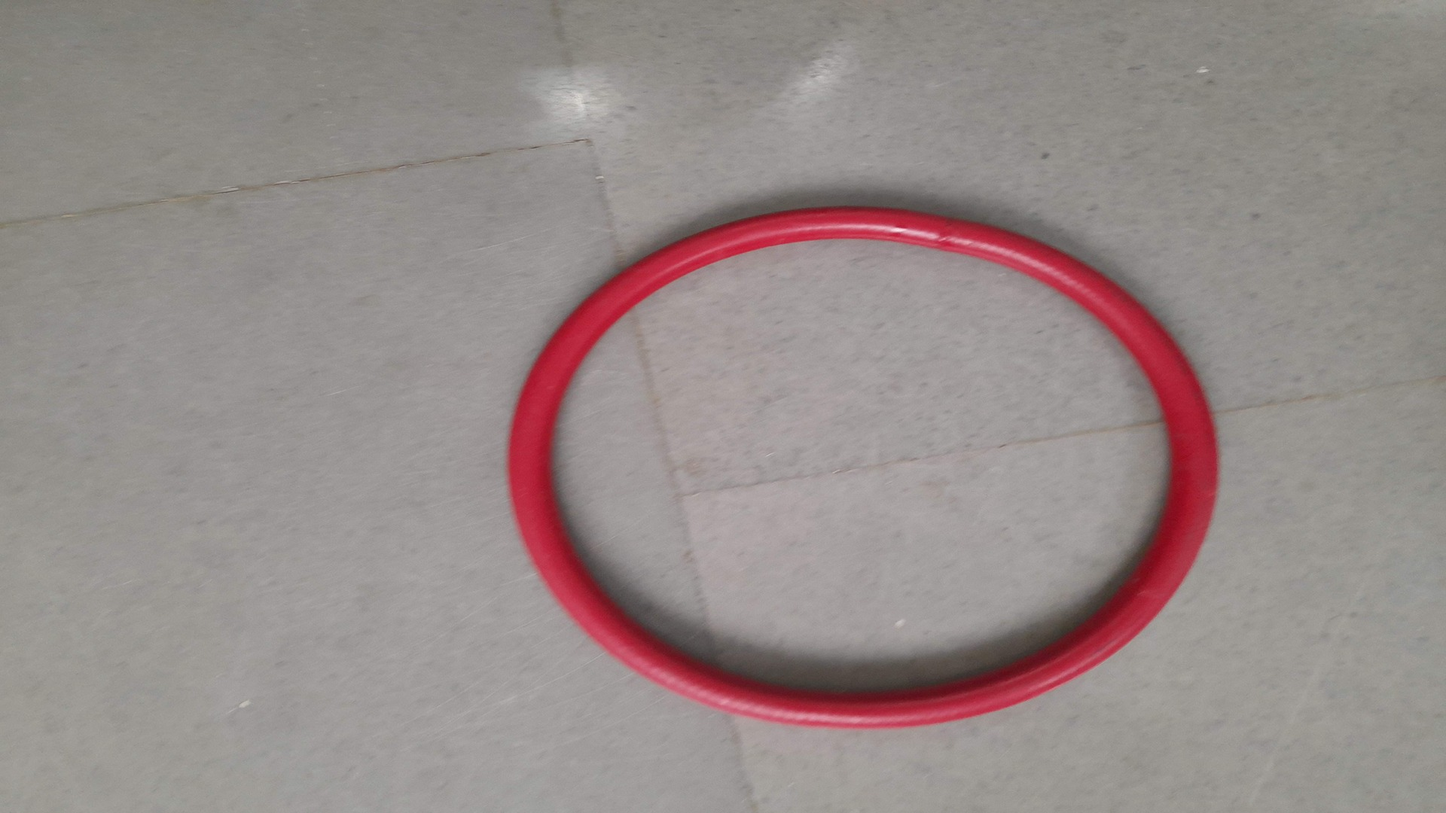Red ring: (508, 205, 1217, 726)
